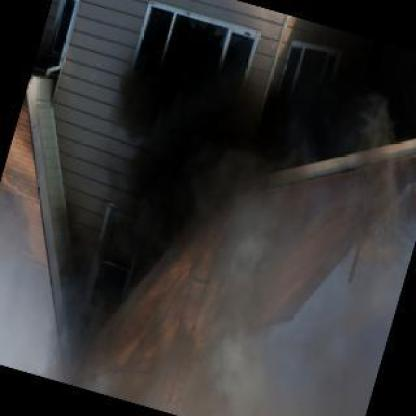Smoke: (78, 30, 406, 416)
